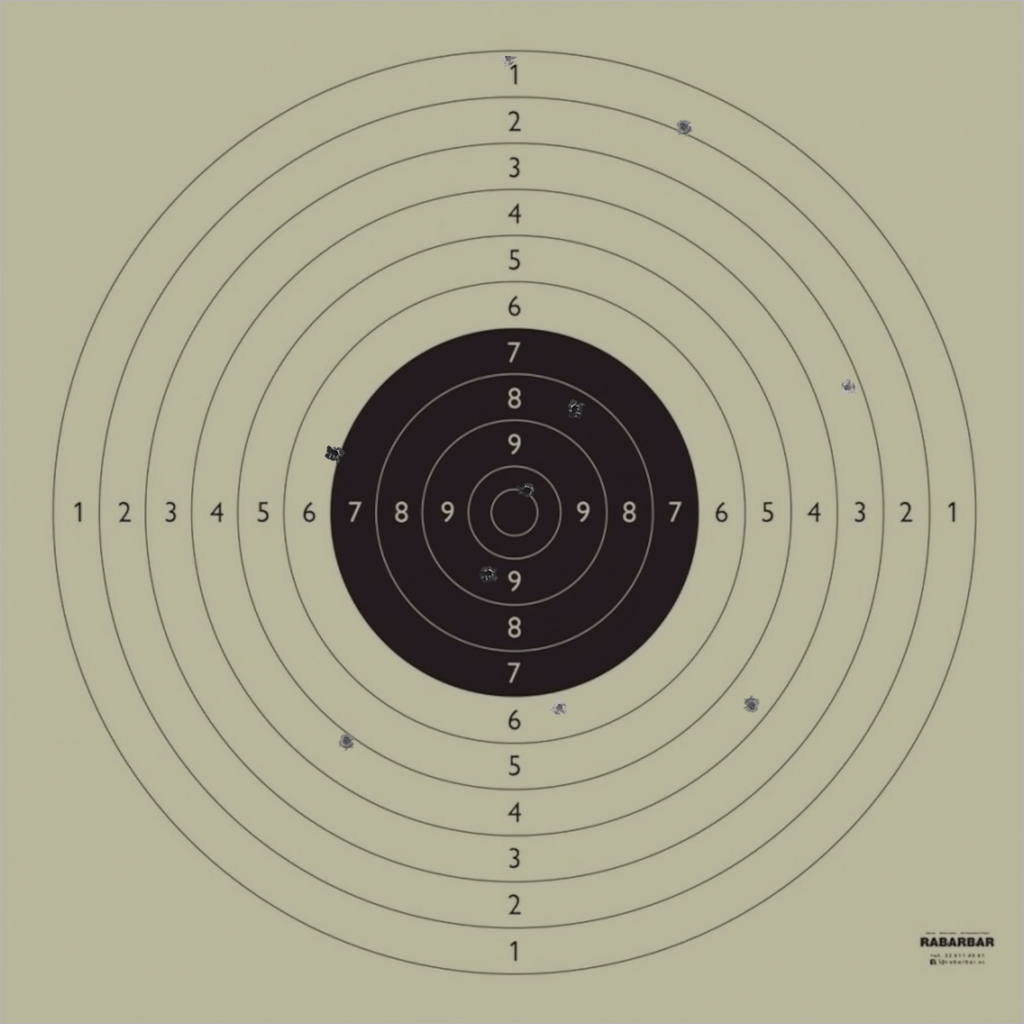0 punktow: (148, 29, 166, 47)
1 punkt: (499, 49, 518, 67)
10 punktow: (517, 481, 536, 500)
2 punkty: (675, 118, 693, 136)
3 punkty: (838, 378, 857, 397)
4 punkty: (742, 696, 761, 715)
5 punktow: (337, 732, 356, 750)
6 punktow: (550, 698, 569, 717)
7 punktow: (325, 444, 343, 462)
8 punktow: (566, 400, 584, 419)
9 punktow: (480, 564, 498, 583)
